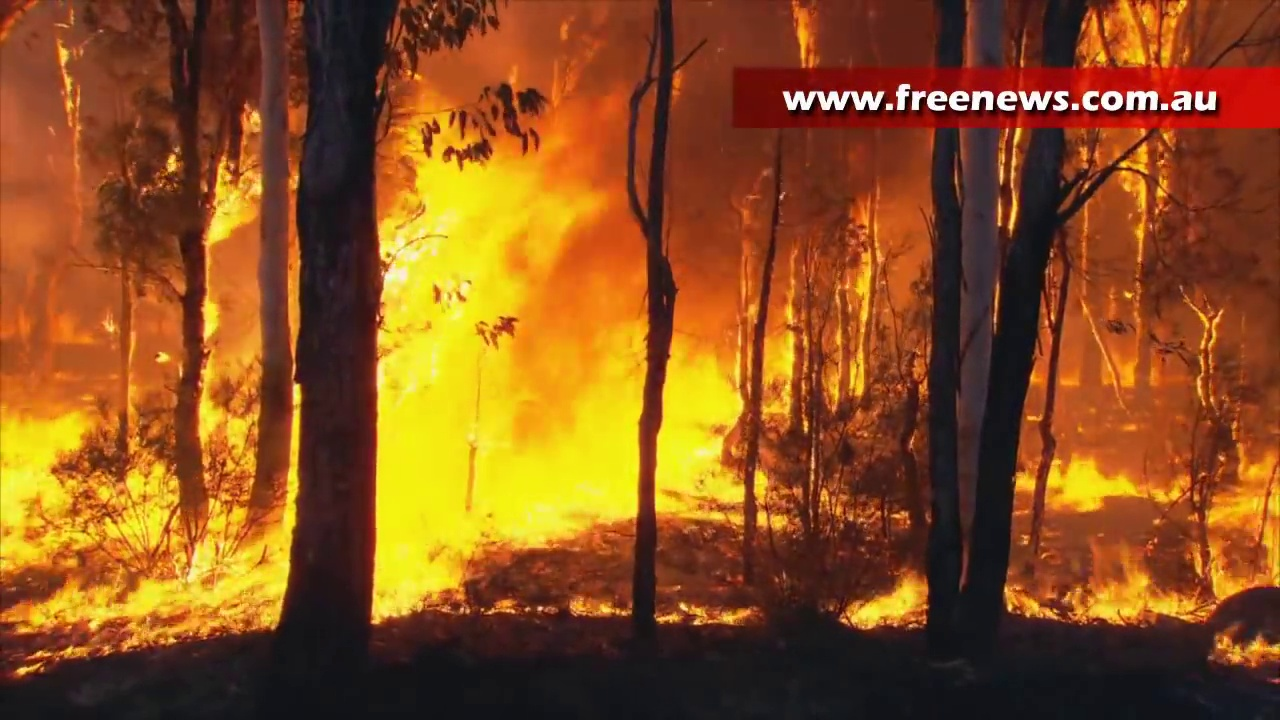fire: (376, 145, 738, 617), (1, 399, 298, 669), (1007, 569, 1204, 628), (1208, 450, 1278, 591), (1050, 450, 1149, 513), (1083, 5, 1184, 64), (843, 575, 926, 631), (205, 165, 258, 247), (1209, 633, 1276, 666)
